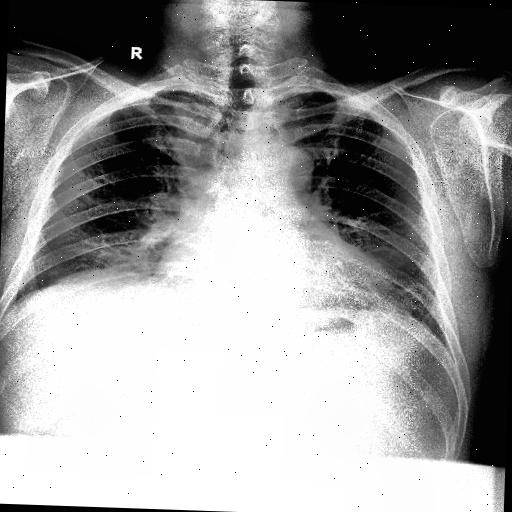0- Aortic enlargement: (243, 140, 314, 207), (248, 142, 311, 196), (252, 141, 316, 189)
3- Cardiomegaly: (152, 241, 400, 318), (152, 240, 396, 312), (153, 250, 414, 310)
7- Lung Opacity: (174, 92, 220, 174)
9- Other lesion: (174, 92, 220, 174)
